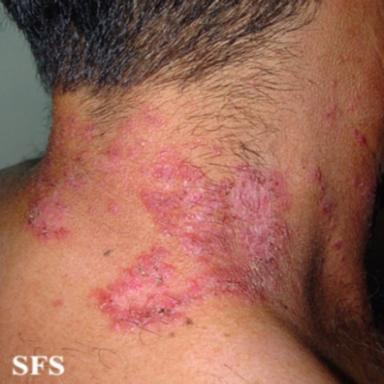Hailey-Hailey-Disease: (95, 107, 291, 329), (26, 121, 91, 240)
